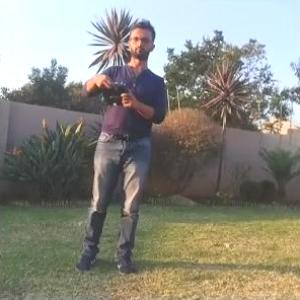follow: (68, 14, 168, 278)
